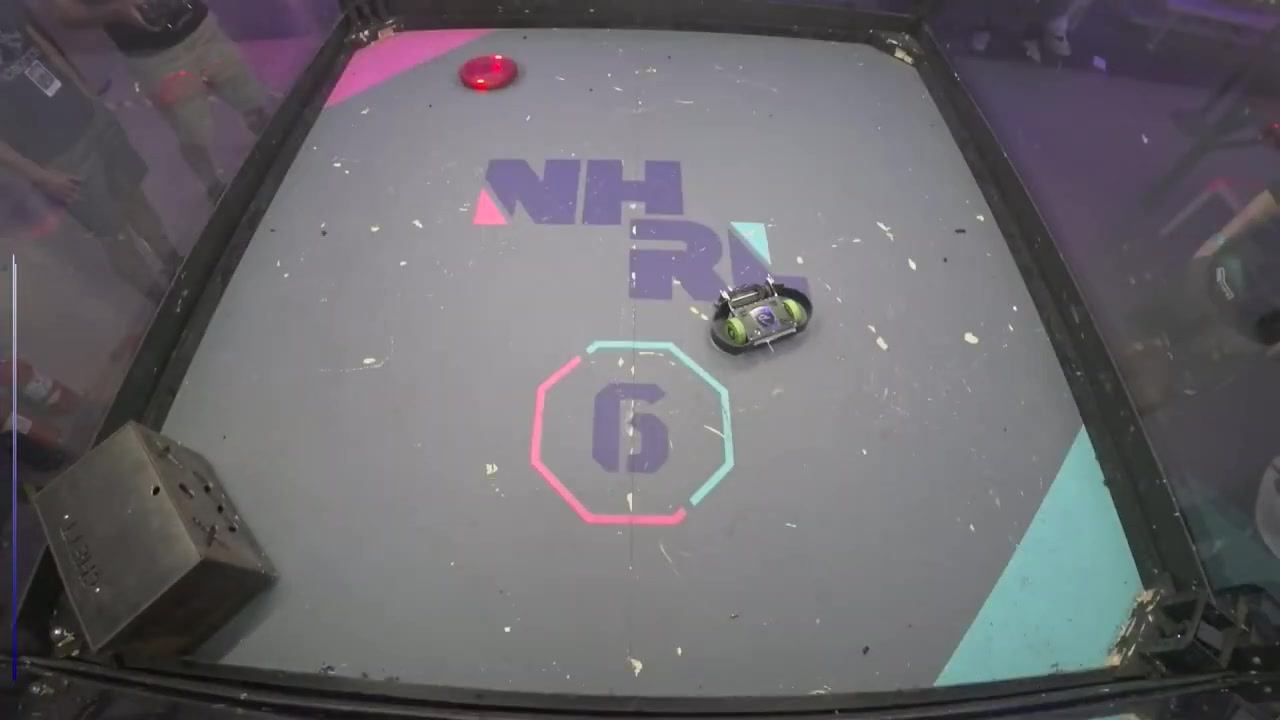combatbot: (709, 277, 815, 354), (458, 54, 518, 95)
housebot: (34, 422, 276, 663)
